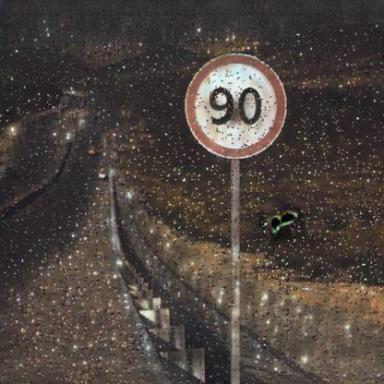Speed_limit_90: (184, 54, 285, 157)
